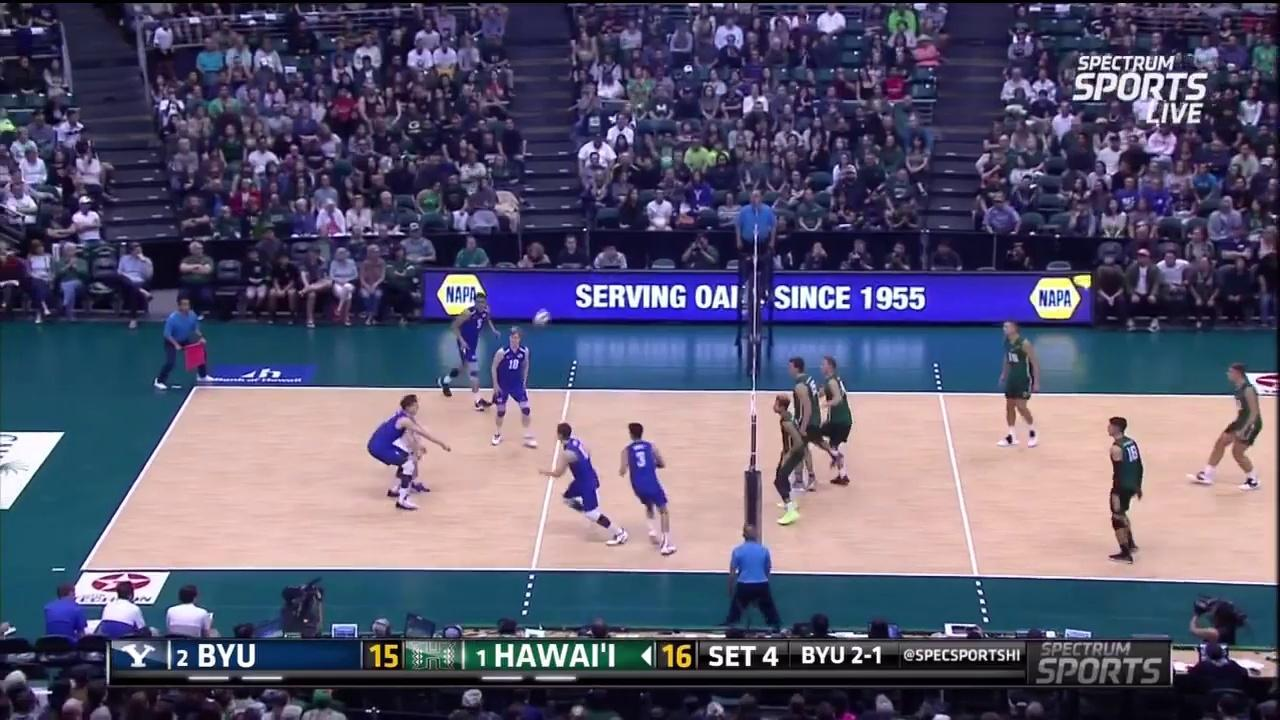player: (1191, 365, 1273, 486), (543, 425, 622, 547), (616, 423, 673, 553), (764, 396, 819, 529), (364, 401, 426, 516), (781, 351, 827, 492), (486, 326, 534, 447), (446, 289, 493, 412), (1107, 416, 1147, 559), (810, 358, 854, 485), (996, 324, 1037, 445), (394, 393, 443, 494)
refree: (722, 527, 776, 632), (155, 296, 206, 388), (734, 186, 779, 277)
